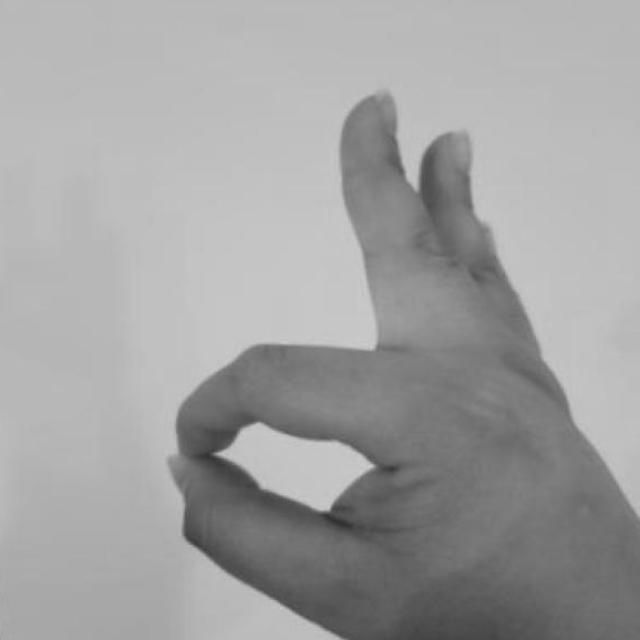F: (147, 71, 595, 640)
